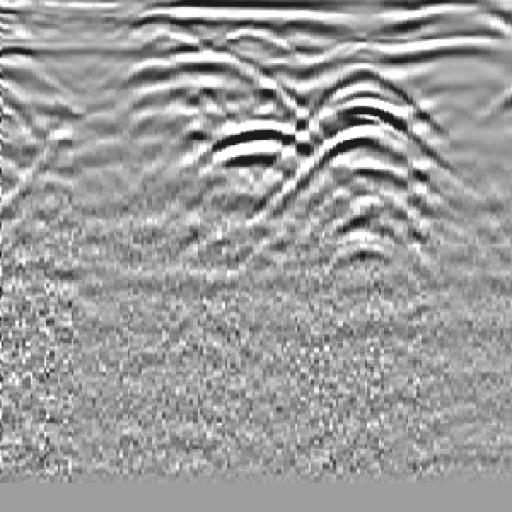metalic: (282, 48, 455, 297)
